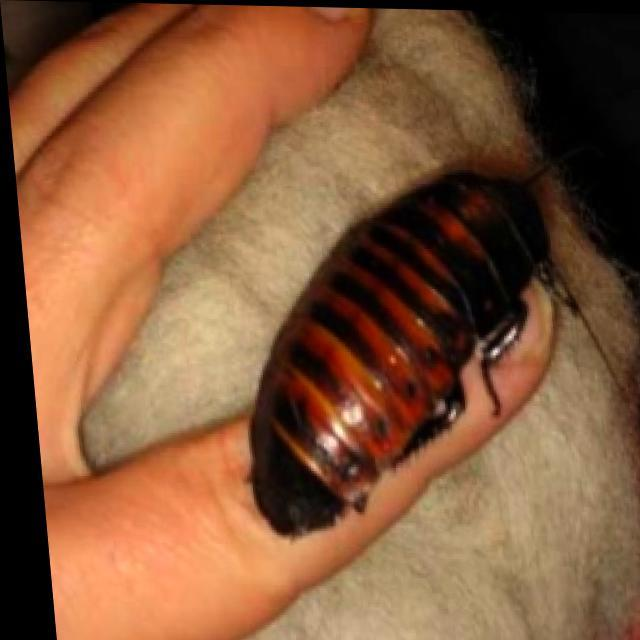cockroach: (243, 164, 559, 540)
